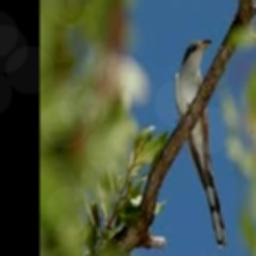Cuckoo: (174, 39, 225, 246)
